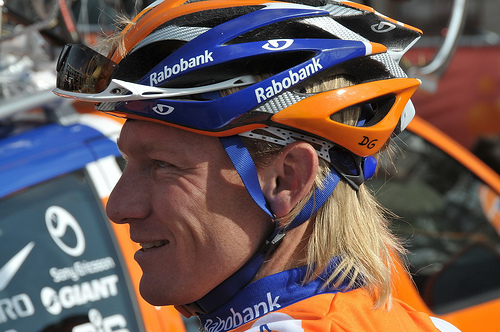helmet: (90, 2, 421, 158)
